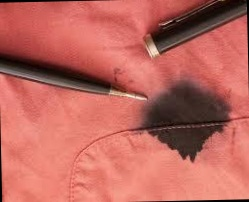ink: (148, 90, 226, 158)
